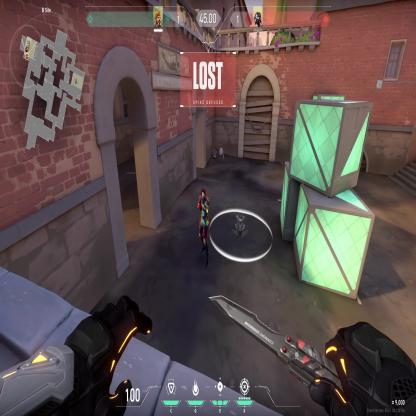enemy: (196, 186, 210, 268)
